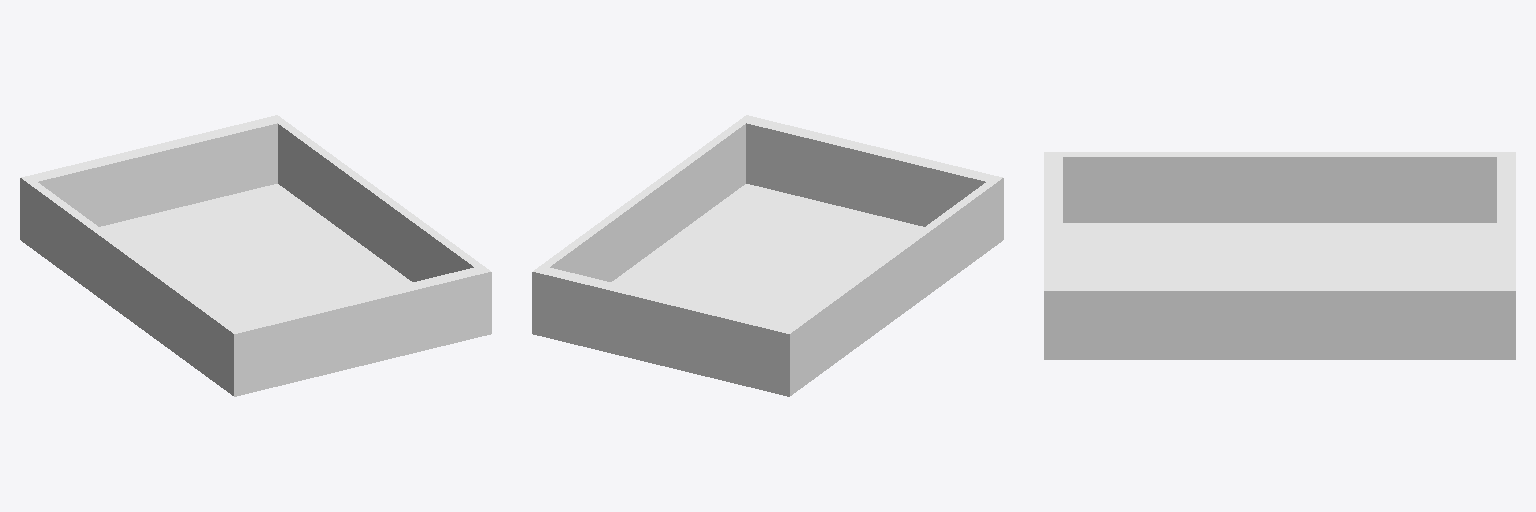
URDF robot description (tabletop):
<robot name="tabletop">
  <link name="base_link">
    <inertial>
      <origin rpy="0 0 0" xyz="0 0 0"/>
      <mass value="0"/>
      <inertia ixx="0" ixy="0" ixz="0" iyy="0" iyz="0" izz="0"/>
    </inertial>
    <visual>
      <origin rpy="0 0 0" xyz="0 0 0"/>
      <geometry>
        <mesh filename="box.obj" scale="2.04 3.587 0.58"/>
      </geometry>
      <material name="box_material">
        <color rgba="1 1 1 1"/>
      </material>
    </visual>
    <collision>
      <origin rpy="0 0 0" xyz="0 0 0.001"/>
      <geometry>
	 			<box size=".235 .33 .002"/>
      </geometry>
    </collision>
     <collision>
      <origin rpy="0 0 0" xyz="0.1185 0 0.0291"/>
      <geometry>
	 			<box size=".002 .33 .0058"/>
      </geometry>
    </collision>
		<collision>
      <origin rpy="0 0 0" xyz="-0.1185 0 0.0291"/>
      <geometry>
	 			<box size=".002 .33 .0058"/>
      </geometry>
    </collision>
    <collision>
      <origin rpy="0 0 0" xyz="0 0.166 0.0291"/>
      <geometry>
	 			<box size=".235 .002 .0058"/>
      </geometry>
    </collision>
    <collision>
      <origin rpy="0 0 0" xyz="0 -0.166 0.0291"/>
      <geometry>
	 			<box size=".235 .002 .0058"/>
      </geometry>
    </collision>

  </link>
</robot>

--- Render facts (derived) ---
3 views of the same robot in one strip: view 1: azimuth 30°, elevation 25°; view 2: azimuth 150°, elevation 25°; view 3: azimuth 270°, elevation 25° (orthographic).
Robot: tabletop — 1 links, 0 joints (none); root link base_link; default pose: all joints at 0.
Visible links, largest first — view 1: base_link; view 2: base_link; view 3: base_link.
Link boxes in pixels (left/top/right/bottom): base_link: left=20, top=115, right=491, bottom=396; base_link: left=532, top=115, right=1003, bottom=396; base_link: left=1044, top=152, right=1515, bottom=359.
Size in the robot's own frame: 0.2489 by 0.3587 by 0.058 metres.
1 mesh visuals loaded from 1 distinct referenced files (1 OBJ).
